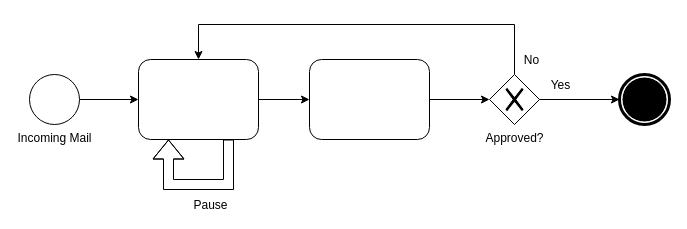
Image size: 687x229. Some labels were removed from this diagram. The shapes that lost their labels are listed below. From the top down, each one's centre as x and y in pixels, then its label:
(198,99): Extract summary
(369,99): Review
